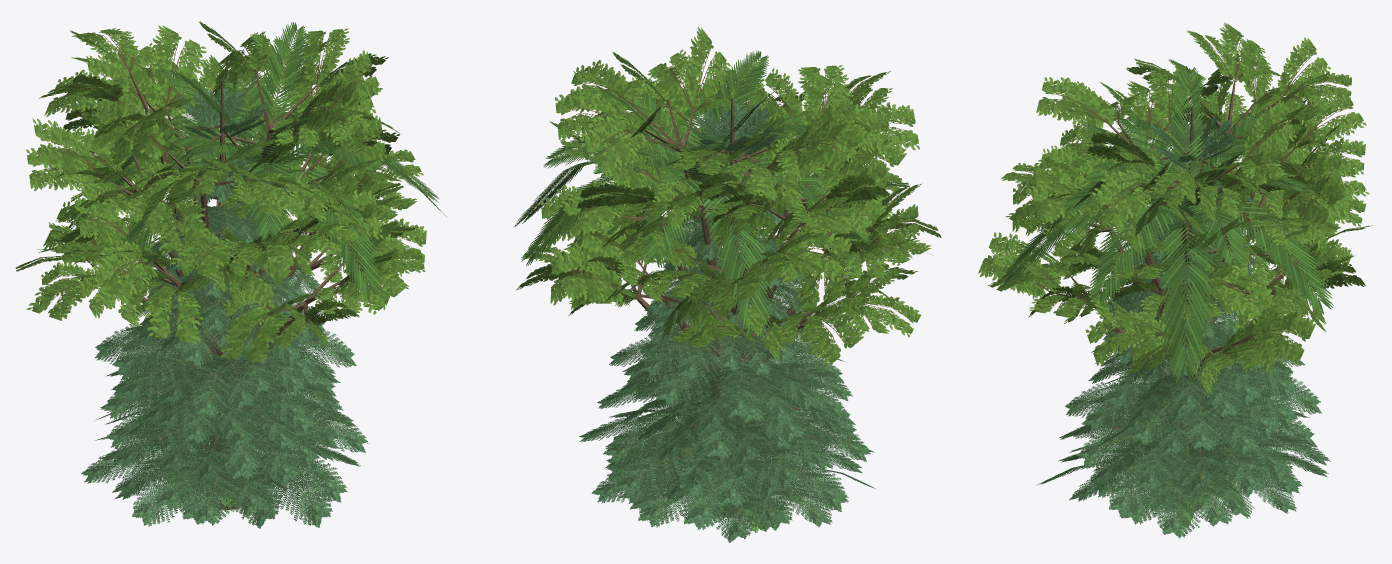
File: botanical.glb
The picture shows the model from 3 angles, left to right: view 1: azimuth 30°, elevation 25°; view 2: azimuth 150°, elevation 25°; view 3: azimuth 270°, elevation 25°; orthographic projection. The views are drawn at different scales.
Visible parts, largest first — view 1: PROP_oak, PROP_pine, PROP_palm; view 2: PROP_oak, PROP_pine, PROP_palm; view 3: PROP_oak, PROP_pine, PROP_palm, PROP_fern.
Part boxes in pixels (<box>): PROP_oak: <box>15,21,426,509</box>; PROP_pine: <box>81,81,369,528</box>; PROP_palm: <box>68,22,446,447</box>; PROP_oak: <box>516,26,941,517</box>; PROP_pine: <box>579,98,875,542</box>; PROP_palm: <box>514,50,868,517</box>; PROP_oak: <box>978,22,1372,511</box>; PROP_pine: <box>1037,107,1330,538</box>; PROP_palm: <box>1001,66,1333,464</box>; PROP_fern: <box>1111,461,1245,526</box>.
Bounding box in the file's own units: 2.04 × 2.18 × 1.83.
2 materials, 2 textured.
